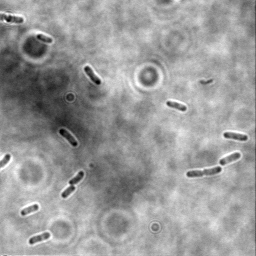Dividing: (61, 170, 86, 200), (186, 167, 222, 179)
Rod: (58, 127, 79, 148), (83, 65, 103, 87), (219, 151, 243, 167), (28, 231, 52, 246), (165, 100, 189, 113), (222, 131, 249, 142), (20, 203, 40, 217), (36, 33, 54, 45)
